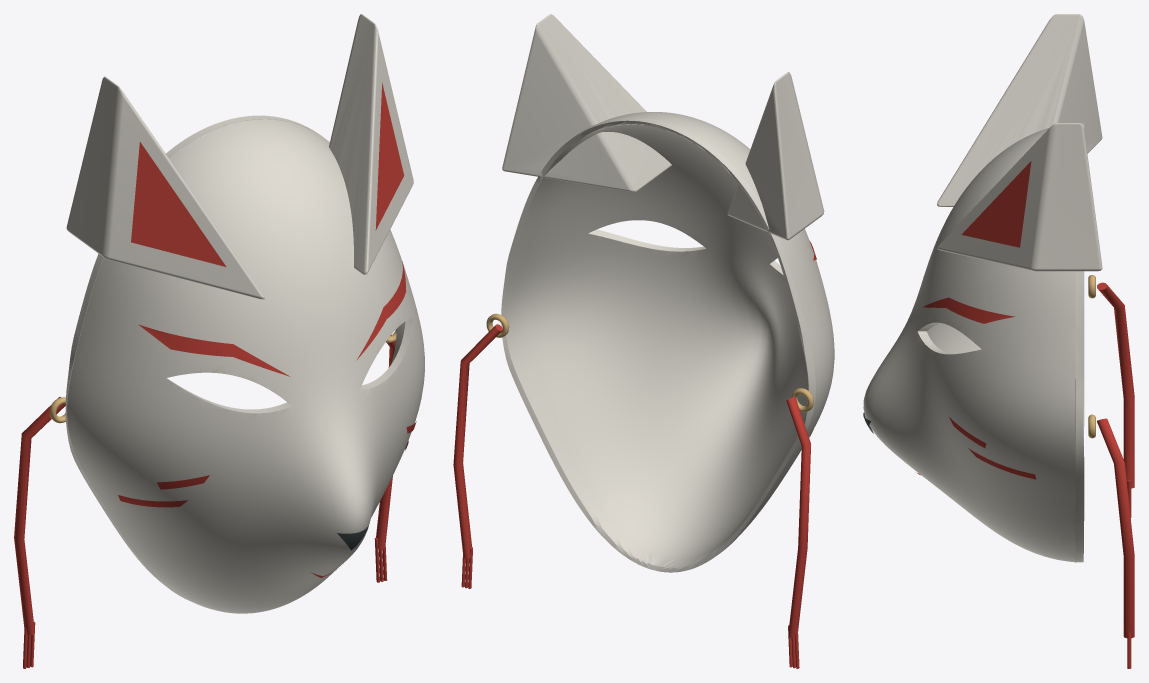
The model's file is fox_mask.glb.
The picture shows the model from 3 angles, left to right: view 1: azimuth 30°, elevation 25°; view 2: azimuth 150°, elevation 25°; view 3: azimuth 270°, elevation 25°; orthographic projection. The views are drawn at different scales.
Parts seen in each view (by area): view 1: GEO-GEO-Sculpted fox face shell, GEO-Flush red ear enamel, GEO-Braided hanging cord, GEO-Flush red ear enamel.001, GEO-Flush vermilion eye calligraphy, GEO-Braided hanging cord.001, GEO-Flush vermilion eye calligraphy.001; view 2: GEO-GEO-Sculpted fox face shell, GEO-Braided hanging cord, GEO-Braided hanging cord.001; view 3: GEO-GEO-Sculpted fox face shell, GEO-Flush red ear enamel.001, GEO-Braided hanging cord.001, GEO-Braided hanging cord, GEO-Flush vermilion eye calligraphy.001.
Part boxes in pixels (left/top/right/bottom): GEO-GEO-Sculpted fox face shell: left=65, top=14, right=424, bottom=613; GEO-Flush red ear enamel: left=131, top=142, right=226, bottom=266; GEO-Braided hanging cord: left=14, top=397, right=65, bottom=635; GEO-Flush red ear enamel.001: left=375, top=82, right=404, bottom=230; GEO-Flush vermilion eye calligraphy: left=138, top=324, right=290, bottom=376; GEO-Braided hanging cord.001: left=376, top=335, right=395, bottom=549; GEO-Flush vermilion eye calligraphy.001: left=356, top=261, right=406, bottom=360; GEO-GEO-Sculpted fox face shell: left=501, top=14, right=834, bottom=572; GEO-Braided hanging cord: left=786, top=397, right=810, bottom=637; GEO-Braided hanging cord.001: left=453, top=324, right=502, bottom=558; GEO-GEO-Sculpted fox face shell: left=863, top=14, right=1102, bottom=562; GEO-Flush red ear enamel.001: left=961, top=161, right=1031, bottom=247; GEO-Braided hanging cord.001: left=1097, top=418, right=1134, bottom=638; GEO-Braided hanging cord: left=1097, top=282, right=1134, bottom=488; GEO-Flush vermilion eye calligraphy.001: left=923, top=297, right=1015, bottom=323.
Size of the model in its own units: 0.2039 by 0.3077 by 0.1448.
